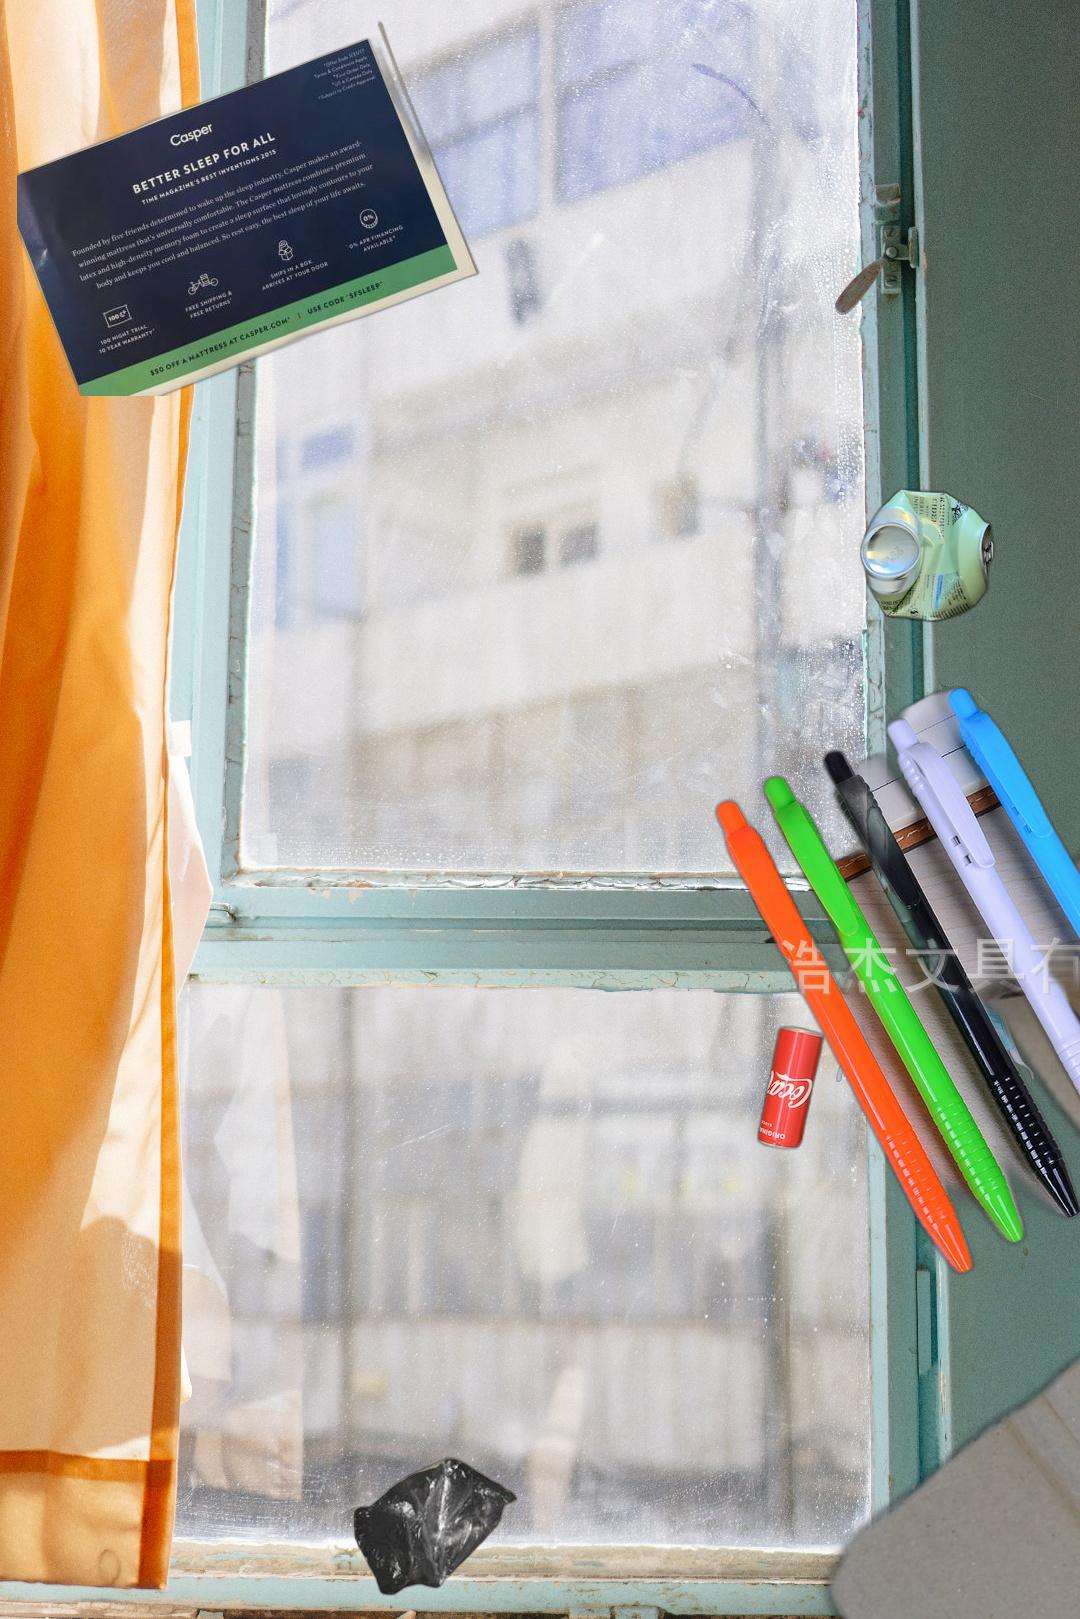metal-cans: (857, 482, 999, 628), (753, 1020, 827, 1155)
paper: (17, 19, 483, 395)
penholder: (710, 680, 1080, 1281)
plastic-bag: (353, 1454, 520, 1596)
trash: (834, 948, 1037, 1084)
trashbox-cardboard: (357, 485, 1080, 1619)
